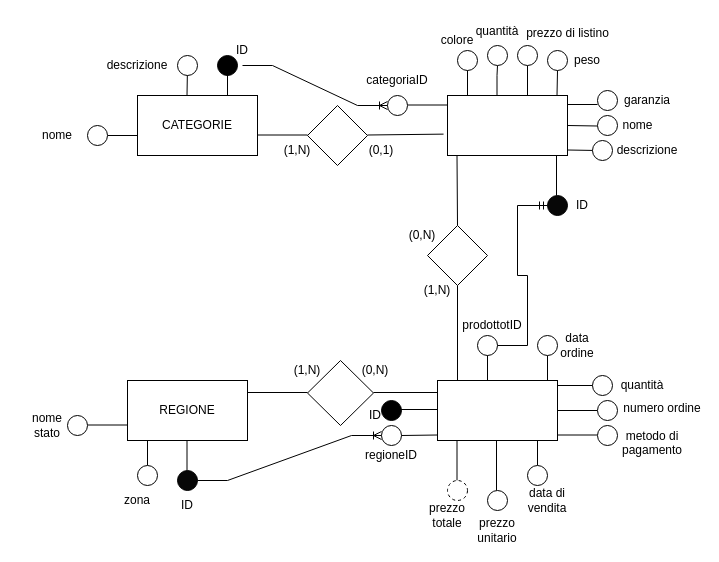
This 719x562 diagram has some shape labels left out. The centre of each missing label's shape, as x and y in pixels:
"PRODOTTI" goes at pixel 507 125.
"VENDITE" goes at pixel 497 410.
